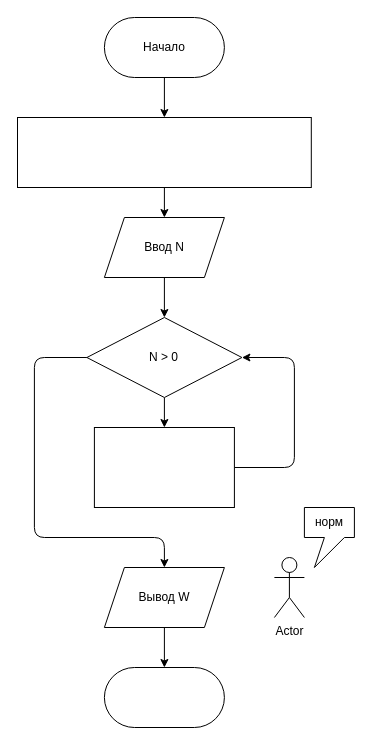
Some shapes in this 372 by 745 pixel diagram are drawn without their labels. The shapes that lost their labels are listed below. From the top down, each one's centre as x and y in pixels, then its label:
(163,152): arr[16] = { 0, 1, 1, 2, 1, 2, 2, 3, 1, 2, 2, 3, 2, 3, 3, 4 } W = 0
(163,467): W = W + arr [n mod 16] N = N >> 4
(163,697): Конец
